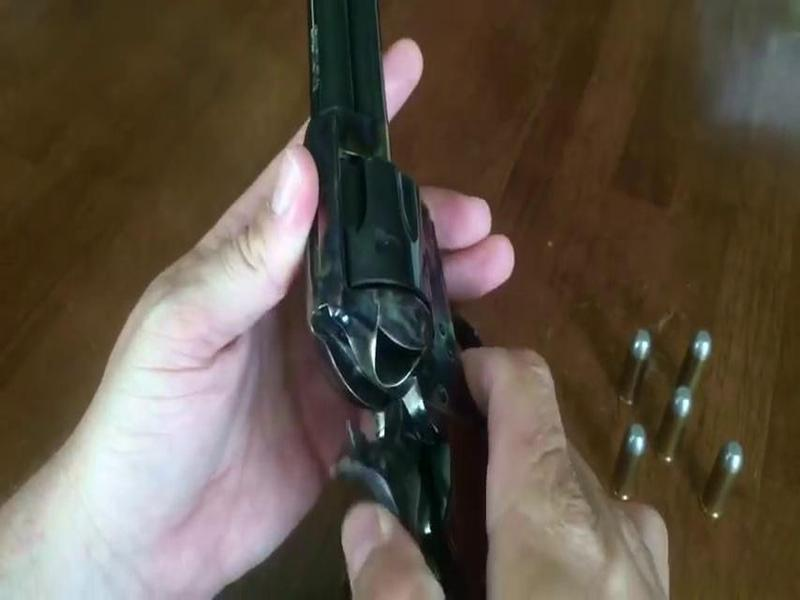Revolver: (278, 4, 525, 564)
